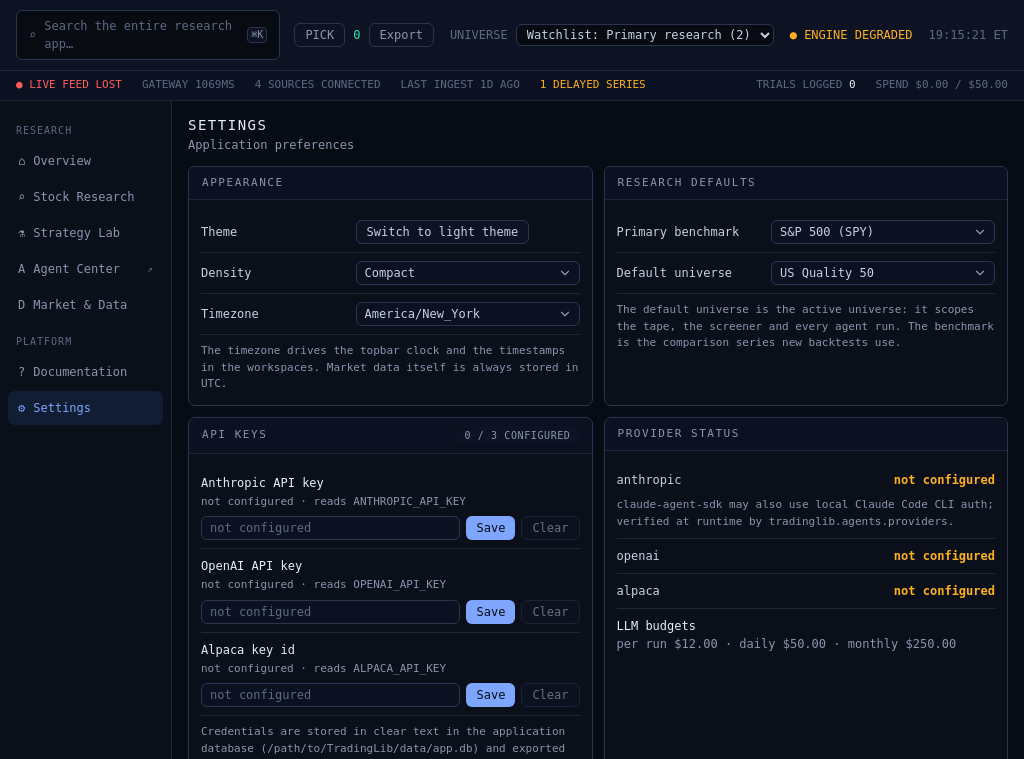
Test: Settings page › sends a key without keeping it, refuses an empty one, and clears a stored one
Expected: the button "Clear" below "not configured · reads ANTHROPIC_API_KEY" is disabled, [521,516,580,540]
Click the button "Save" below "not configured · reads ANTHROPIC_API_KEY" at (491, 528), box [466,516,515,540]
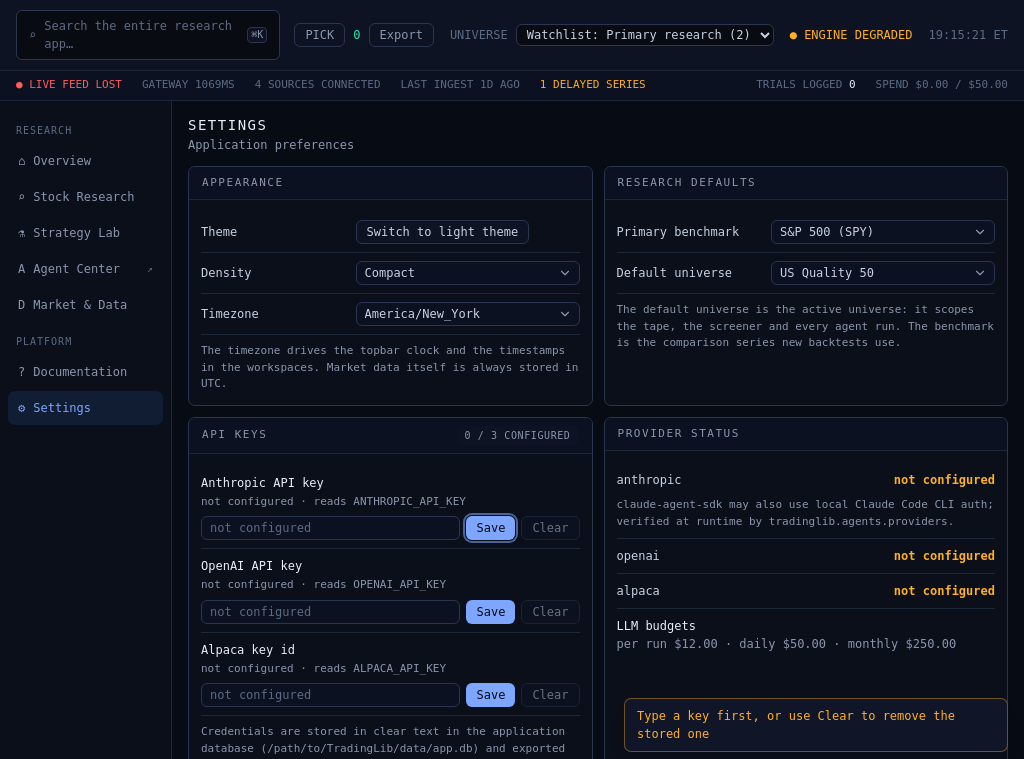
Type "sk-test-not-real" into the password field named "Anthropic API key" at (331, 528), box [201,516,460,540]
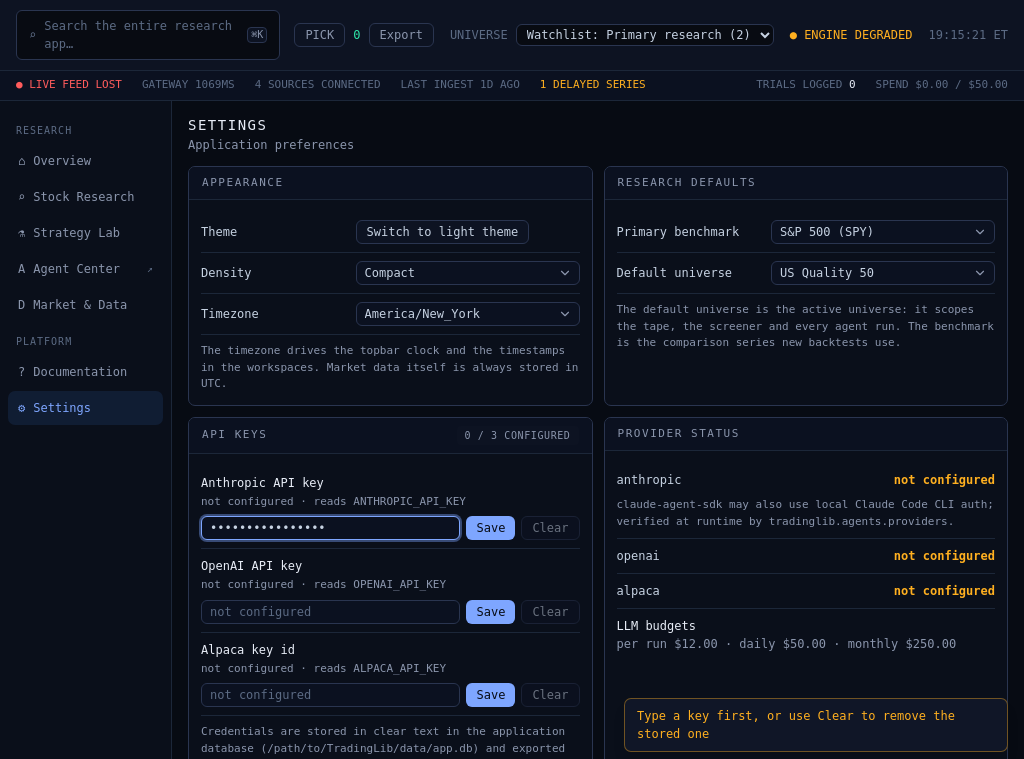
Click the button "Save" below "not configured · reads ANTHROPIC_API_KEY" at (491, 528), box [466,516,515,540]
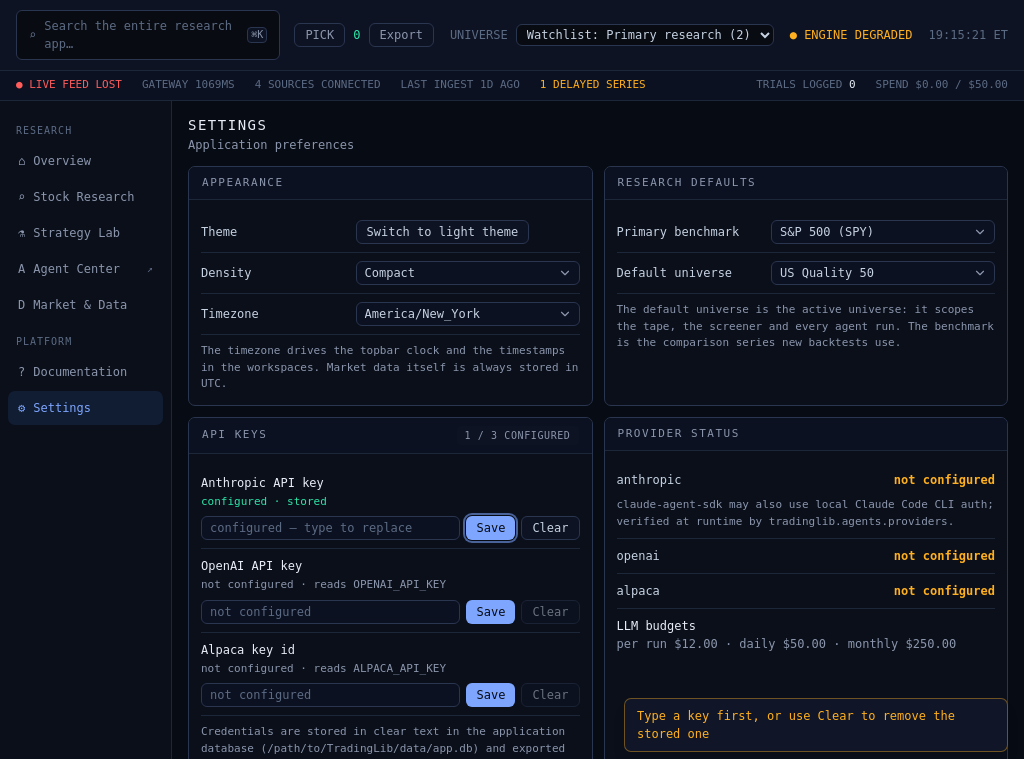
Now the password field named "Anthropic API key" is empty, box [201,516,460,540]
Now the text "configured · stored" is shown, box [201,494,327,508]
Click the button "Clear" below "configured · stored" at (550, 528), box [521,516,580,540]
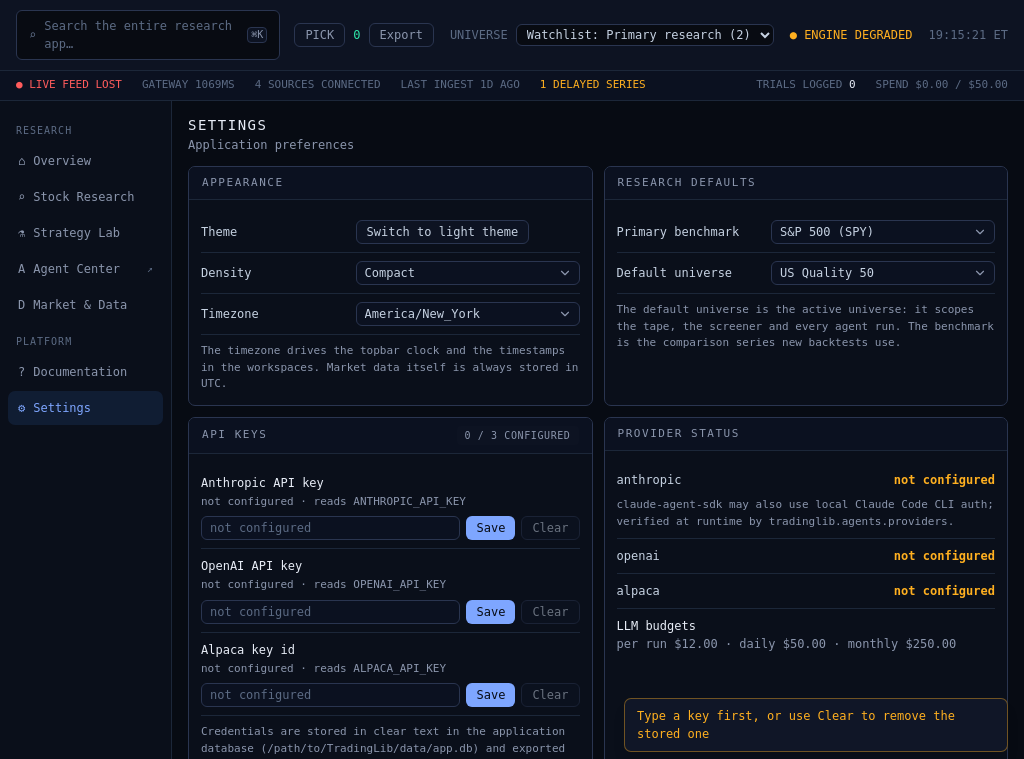
Now the text "not configured · reads ANTHROPIC_API_KEY" is shown, box [201,494,466,508]
